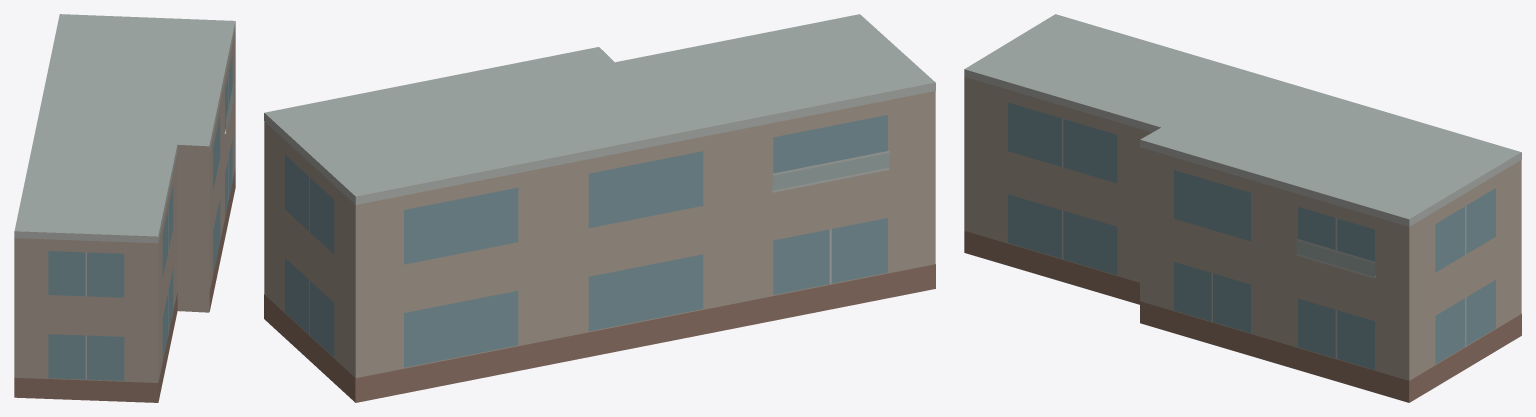
The model's file is survey-upis-32986279.glb.
3 renders of one model, left to right at view 1: azimuth 30°, elevation 25°; view 2: azimuth 150°, elevation 25°; view 3: azimuth 270°, elevation 25°, orthographic. The views are drawn at different scales.
Parts seen in each view (by area): view 1: survey-upis-32986279.tmp; view 2: survey-upis-32986279.tmp; view 3: survey-upis-32986279.tmp.
Boxes of the visible parts, x1,y1,x2,y2 form: survey-upis-32986279.tmp: (14,14,235,402); survey-upis-32986279.tmp: (264,14,935,402); survey-upis-32986279.tmp: (964,14,1521,402).
Size of the model in its own units: 13.45 by 5.6 by 15.42.
